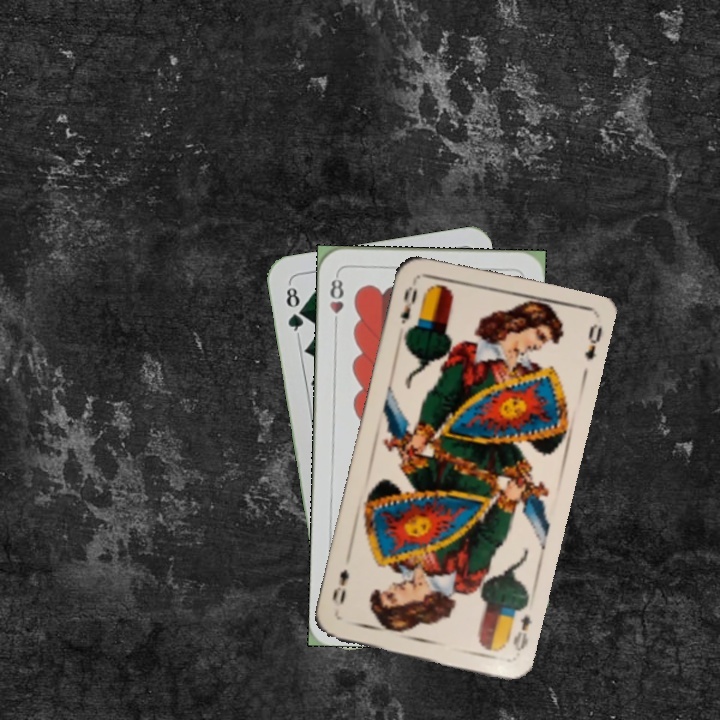EO: (508, 611, 535, 654), (395, 282, 420, 327)
G8: (282, 280, 307, 339)
H8: (325, 270, 346, 330)
